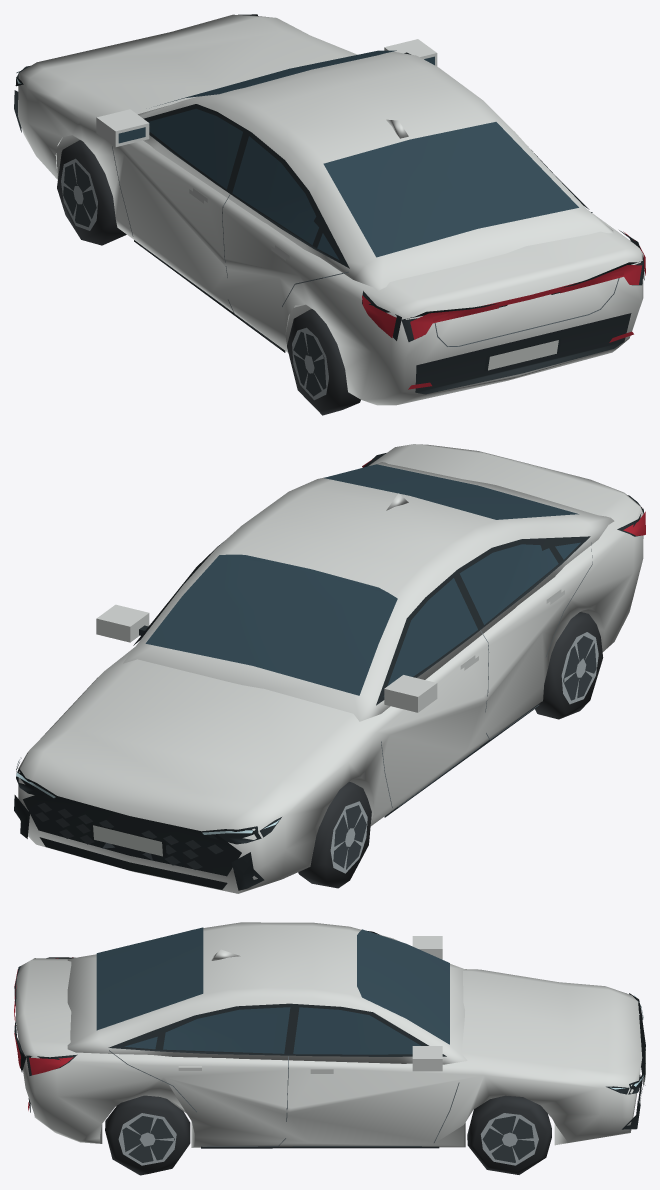
3 renders of one model, top to bottom at view 1: azimuth 30°, elevation 25°; view 2: azimuth 150°, elevation 25°; view 3: azimuth 270°, elevation 25°, orthographic. The views are drawn at different scales.
Parts seen in each view (by area): view 1: Body shell - formed fenders, Cabin - roof and pillars, Details | Glass | solid slate blue, Details | Trim | graphite, Details | Tail lamps | red, Left rear tire, Left front tire, Details | Wheels | inner graphite, Details | Wheels | satin silver, Left mirror housing, Details | Number plates | blank ivory, Details | Panel gaps | soft grey (+1 smaller); view 2: Body shell - formed fenders, Details | Glass | solid slate blue, Cabin - roof and pillars, Details | Trim | graphite, Details | Wheels | inner graphite, Left front tire, Left rear tire, Details | Wheels | satin silver, Left mirror housing, Right mirror housing, Details | Number plates | blank ivory; view 3: Body shell - formed fenders, Details | Glass | solid slate blue, Cabin - roof and pillars, Details | Trim | graphite, Details | Wheels | inner graphite, Right rear tire, Right front tire, Details | Wheels | satin silver, Right mirror housing, Details | Tail lamps | red, Left mirror housing, Details | Panel gaps | soft grey.
Boxes of the visible parts, x1,y1,x2,y2 form: Body shell - formed fenders: [18, 14, 643, 405]; Cabin - roof and pillars: [138, 52, 613, 291]; Details | Glass | solid slate blue: [118, 50, 578, 259]; Details | Trim | graphite: [14, 14, 644, 394]; Details | Tail lamps | red: [362, 231, 645, 389]; Left rear tire: [287, 309, 360, 415]; Left front tire: [57, 140, 126, 245]; Details | Wheels | inner graphite: [63, 162, 326, 396]; Details | Wheels | satin silver: [61, 158, 328, 400]; Left mirror housing: [96, 109, 149, 147]; Details | Number plates | blank ivory: [488, 340, 558, 370]; Details | Panel gaps | soft grey: [112, 146, 619, 349]; Body shell - formed fenders: [18, 444, 643, 893]; Details | Glass | solid slate blue: [145, 464, 580, 696]; Cabin - roof and pillars: [123, 462, 614, 721]; Details | Trim | graphite: [14, 453, 643, 890]; Details | Wheels | inner graphite: [35, 636, 596, 869]; Left front tire: [298, 781, 371, 888]; Left rear tire: [535, 612, 603, 719]; Details | Wheels | satin silver: [330, 632, 598, 873]; Left mirror housing: [384, 675, 437, 712]; Right mirror housing: [96, 604, 149, 642]; Details | Number plates | blank ivory: [93, 825, 162, 856]; Body shell - formed fenders: [15, 958, 642, 1147]; Details | Glass | solid slate blue: [96, 927, 449, 1054]; Cabin - roof and pillars: [67, 922, 467, 1064]; Details | Trim | graphite: [14, 931, 645, 1148]; Details | Wheels | inner graphite: [122, 1063, 645, 1162]; Right rear tire: [105, 1095, 190, 1175]; Right front tire: [467, 1095, 551, 1174]; Details | Wheels | satin silver: [118, 1113, 538, 1165]; Right mirror housing: [412, 1046, 442, 1071]; Details | Tail lamps | red: [14, 957, 73, 1110]; Left mirror housing: [412, 936, 442, 959]; Details | Panel gaps | soft grey: [109, 1050, 459, 1146].
Bounding box in the file's own units: 2.19 × 1.47 × 4.75.
